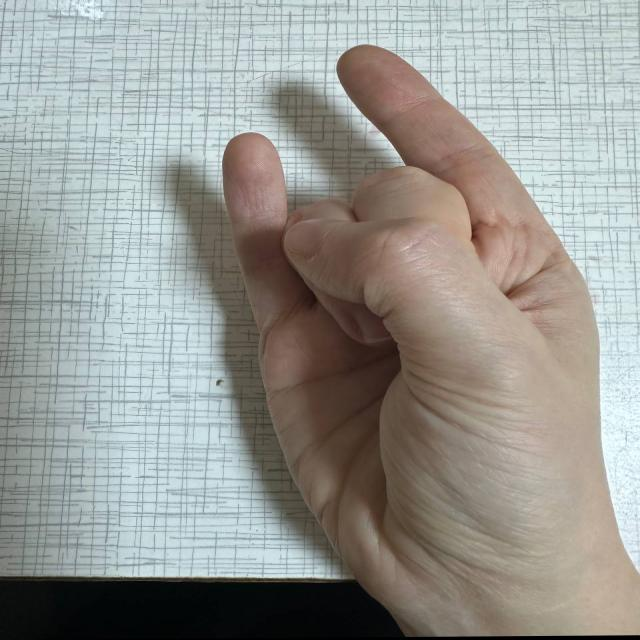y: (211, 41, 613, 576)
